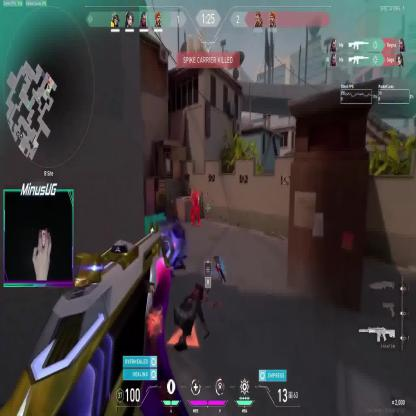enemy: (190, 186, 201, 226)
enemy_head: (194, 185, 197, 194)
